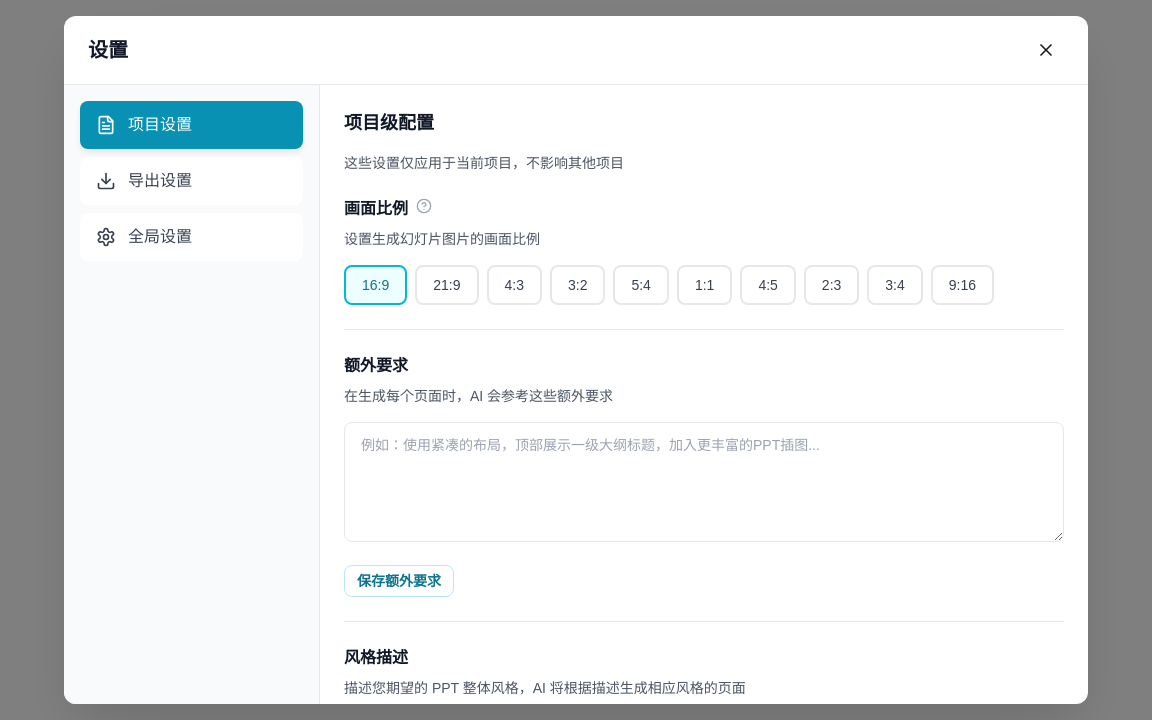
Test: ProjectSettingsModal render mode › keeps image reconstruction settings for image projects
Click the button "导出设置".
click(192, 181)  # box [80,157,303,205]
(page scrolled)
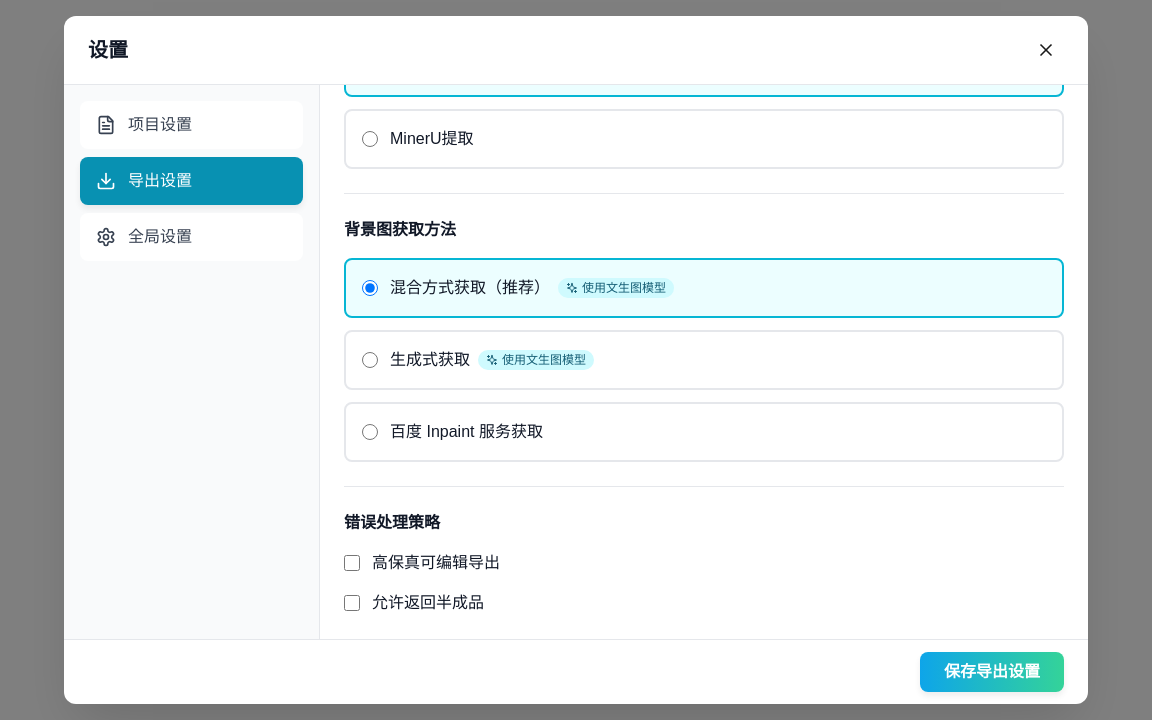
Now the text "MinerU提取" is shown, box [390,130,474,147]
Now the heading "背景图获取方法" is shown, box [344,221,456,238]
Now the checkbox labelled "高保真可编辑导出" is shown, box [344,555,360,571]
